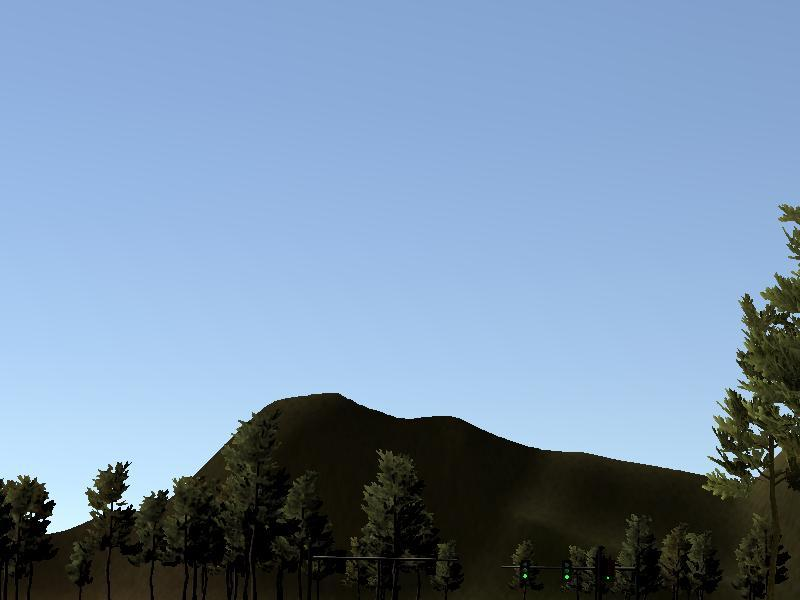Green: (519, 557, 531, 583), (561, 557, 573, 583)
